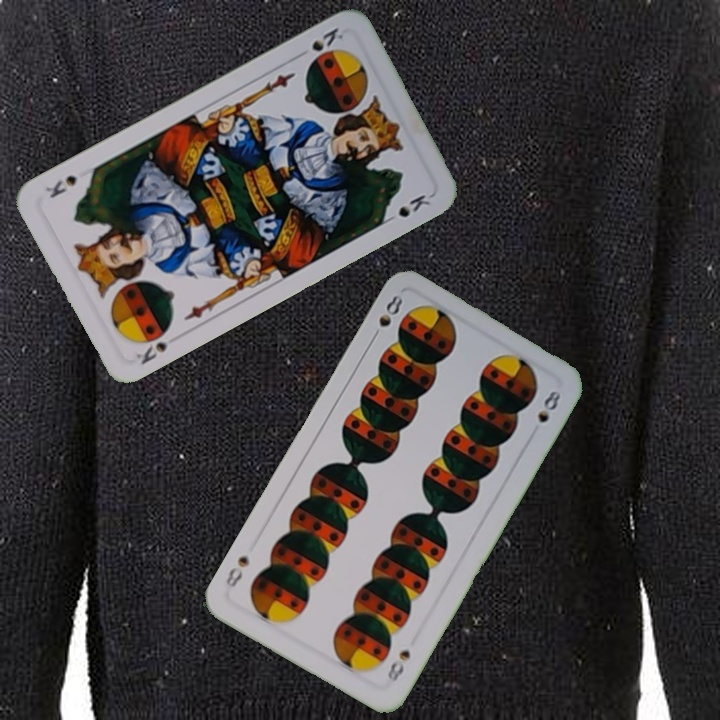S8: (367, 290, 406, 344), (383, 646, 413, 686)
SK: (307, 23, 346, 54), (132, 337, 170, 367)
